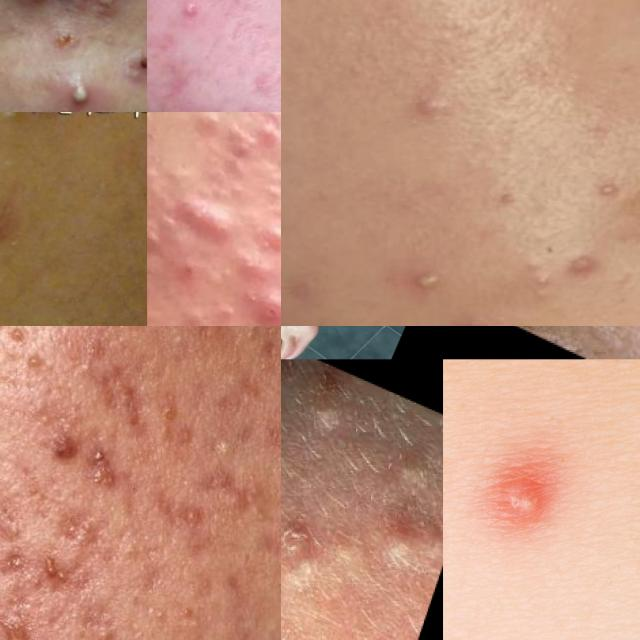acne_scars: (103, 348, 152, 426), (153, 504, 213, 536)
comedone: (368, 503, 433, 583), (286, 374, 351, 449), (513, 242, 567, 314), (213, 290, 236, 326), (0, 326, 35, 347), (0, 112, 21, 141), (147, 182, 162, 215), (255, 183, 281, 200), (183, 303, 200, 326)
papule: (463, 418, 584, 582), (568, 239, 627, 309), (250, 225, 281, 269), (3, 606, 30, 640), (443, 317, 511, 326)
pustule: (394, 249, 460, 306), (408, 92, 458, 157), (169, 0, 207, 31), (64, 79, 95, 112), (24, 0, 50, 15), (96, 0, 118, 9)
sebo-crystan-conglo: (281, 512, 336, 599), (70, 436, 128, 496), (41, 21, 92, 62), (186, 208, 238, 246), (120, 43, 147, 90), (251, 290, 281, 326)
